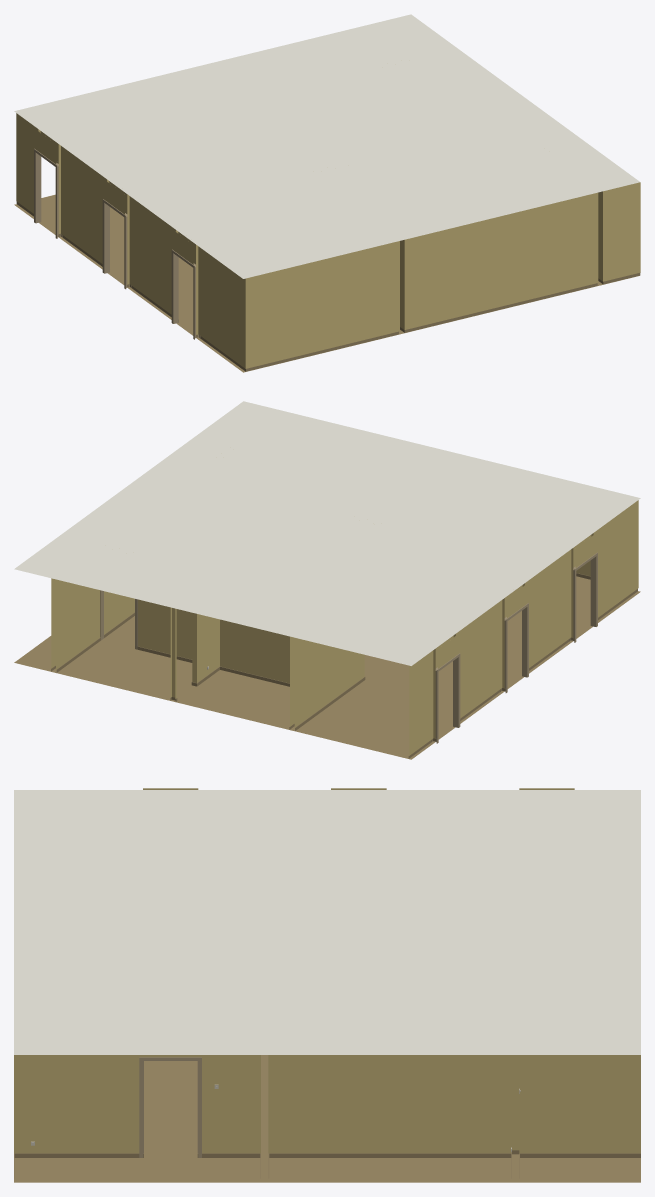
File: chunk_4_5.glb
The picture shows the model from 3 angles, top to bottom: view 1: azimuth 30°, elevation 25°; view 2: azimuth 150°, elevation 25°; view 3: azimuth 270°, elevation 25°; orthographic projection. The views are drawn at different scales.
Parts seen in each view (by area): view 1: chunk_4_5; view 2: chunk_4_5; view 3: chunk_4_5.
Part boxes in pixels (x1=…): chunk_4_5: x1=14, y1=14, x2=640, y2=372; chunk_4_5: x1=14, y1=401, x2=640, y2=759; chunk_4_5: x1=14, y1=788, x2=640, y2=1182.
Size of the model in its own units: 12.1 by 2.7 by 12.
